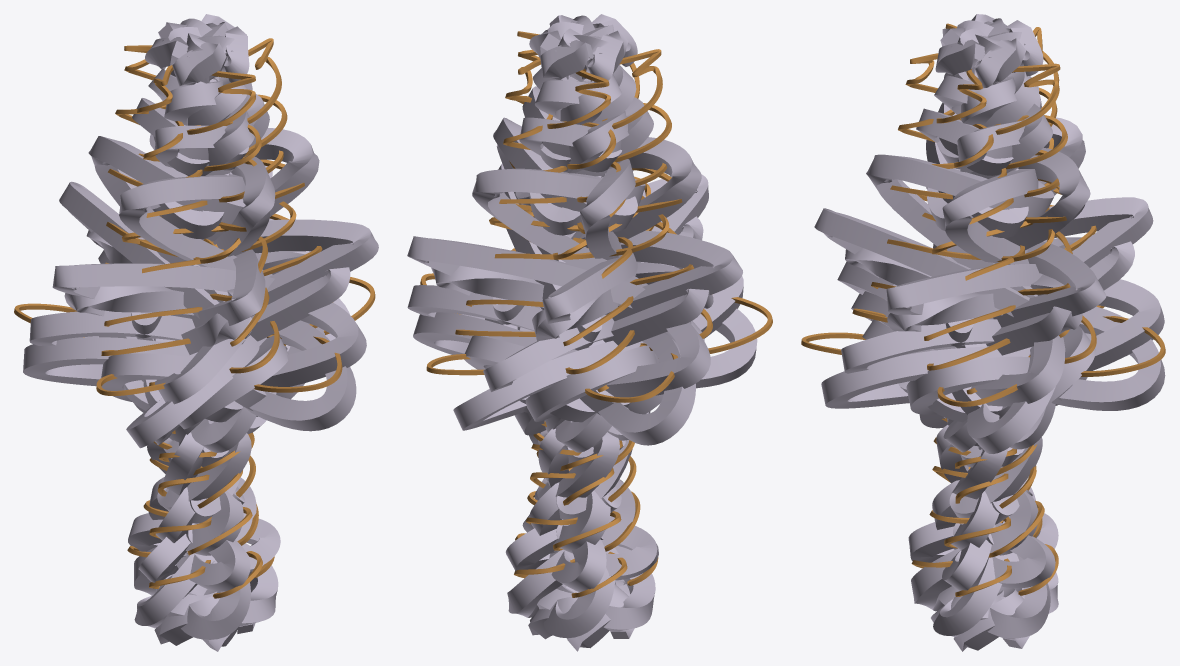
3 renders of one model, left to right at view 1: azimuth 30°, elevation 25°; view 2: azimuth 150°, elevation 25°; view 3: azimuth 270°, elevation 25°, orthographic.
Parts seen in each view (by area): view 1: flight5; view 2: flight5; view 3: flight5.
Part boxes in pixels (x1,y1,x2,y2): flight5: (14,14,378,651); flight5: (407,14,772,651); flight5: (801,14,1165,651).
Bounding box in the file's own units: 22.92 × 41.62 × 22.7.
